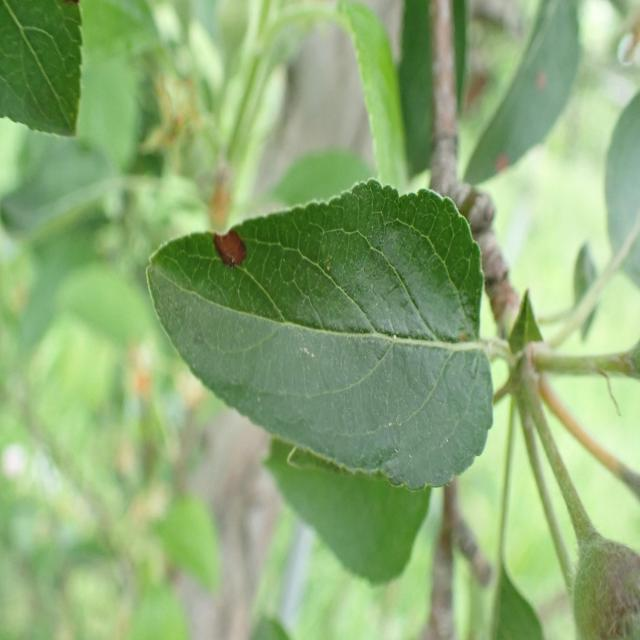Black Rot: (196, 214, 260, 296)
